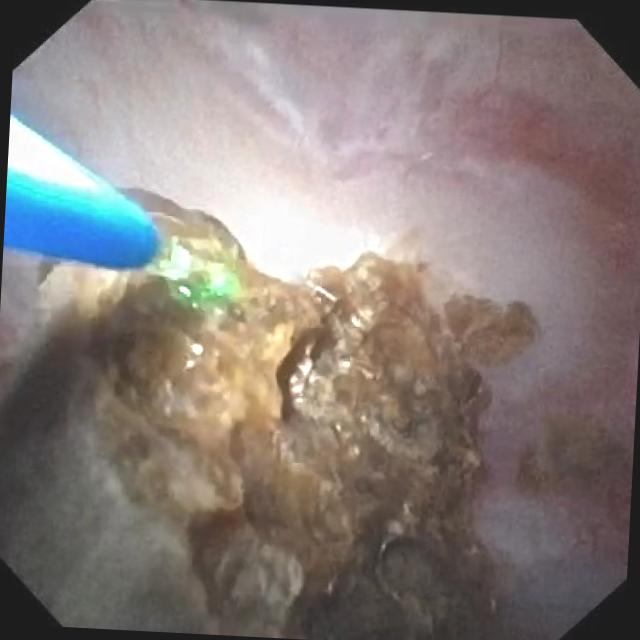laser-fibre: (145, 235, 189, 280)
laser_dot: (207, 267, 233, 296)
stone-new: (0, 188, 492, 640), (445, 298, 535, 363)
